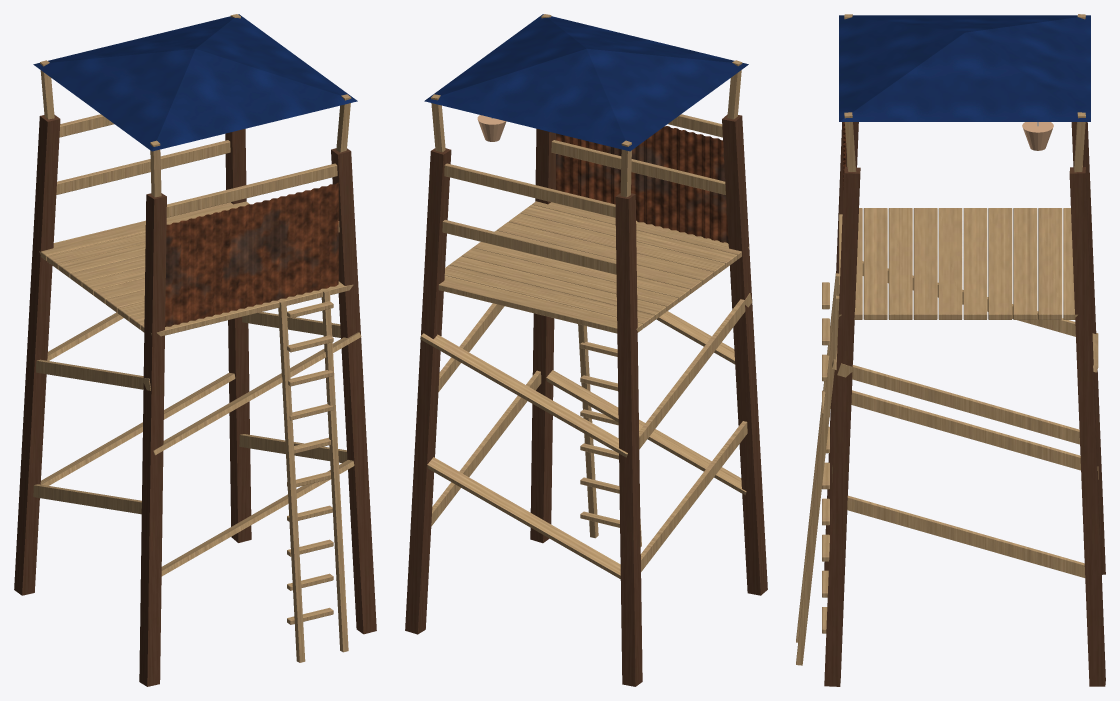
Rendered from torre_vigia.glb.
3 views of the same model, side by side, from view 1: azimuth 30°, elevation 25°; view 2: azimuth 150°, elevation 25°; view 3: azimuth 270°, elevation 25° (orthographic). The views are drawn at different scales.
Visible parts, largest first — view 1: torre_vigia_madeira_crua, torre_vigia_madeira_escura, torre_vigia_lona_azul, torre_vigia_ferrugem; view 2: torre_vigia_madeira_crua, torre_vigia_madeira_escura, torre_vigia_lona_azul, torre_vigia_ferrugem; view 3: torre_vigia_madeira_crua, torre_vigia_lona_azul, torre_vigia_madeira_escura, torre_vigia_cobre.
Boxes of the visible parts, box(x1,y1,x2,y2) form: torre_vigia_madeira_crua: box(33, 14, 361, 662); torre_vigia_madeira_escura: box(14, 114, 376, 686); torre_vigia_lona_azul: box(33, 14, 357, 151); torre_vigia_ferrugem: box(165, 182, 338, 326); torre_vigia_madeira_crua: box(420, 14, 752, 578); torre_vigia_madeira_escura: box(405, 114, 767, 686); torre_vigia_lona_azul: box(424, 14, 748, 151); torre_vigia_ferrugem: box(556, 126, 728, 243); torre_vigia_madeira_crua: box(796, 14, 1098, 665); torre_vigia_lona_azul: box(839, 15, 1090, 121); torre_vigia_madeira_escura: box(824, 122, 1105, 686); torre_vigia_cobre: box(1022, 122, 1053, 150).
Size of the model in its own units: 2.12 by 4.95 by 2.34.
Materials: 6 (4 with a texture image).
